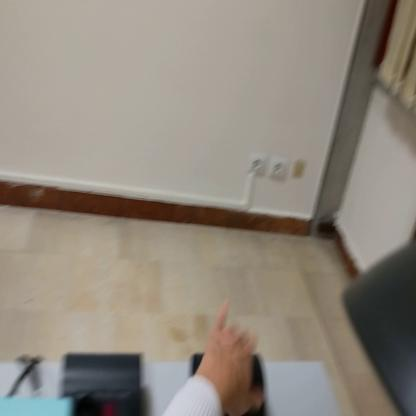hand: (197, 299, 262, 409)
socket: (61, 348, 145, 412), (191, 351, 265, 416)
welder station: (1, 394, 74, 415)
